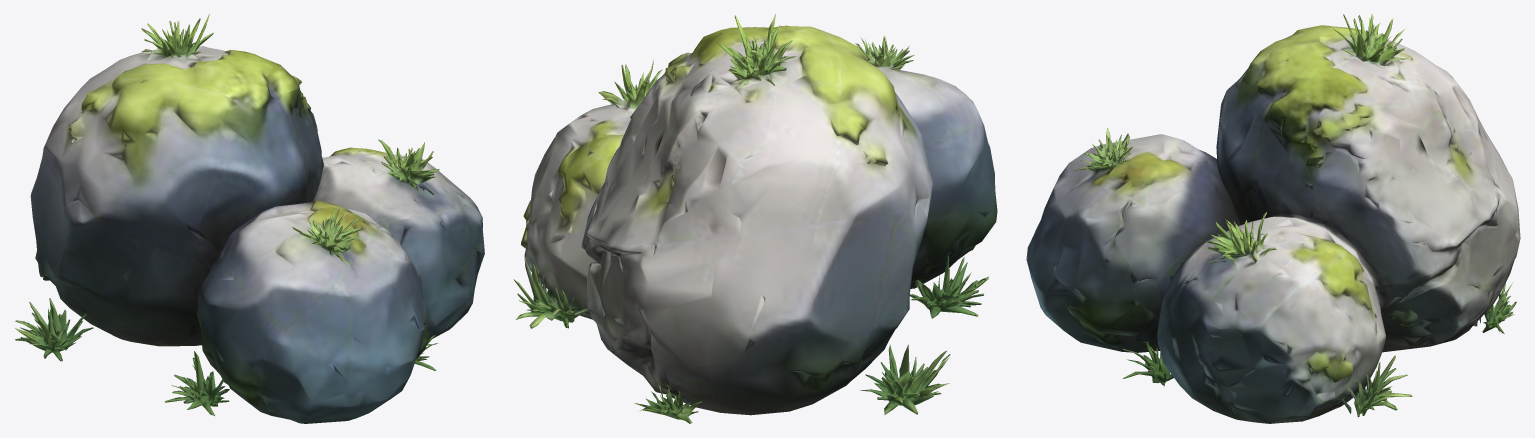
Rendered from rocks-mid.glb.
The picture shows the model from 3 angles, left to right: view 1: azimuth 30°, elevation 25°; view 2: azimuth 150°, elevation 25°; view 3: azimuth 270°, elevation 25°; orthographic projection. The views are drawn at different scales.
Parts seen in each view (by area): view 1: tripo_node_877fe8c3-746c-47d7-b5fc-5a669d12636c; view 2: tripo_node_877fe8c3-746c-47d7-b5fc-5a669d12636c; view 3: tripo_node_877fe8c3-746c-47d7-b5fc-5a669d12636c.
Boxes of the visible parts, x1,y1,x2,y2 form: tripo_node_877fe8c3-746c-47d7-b5fc-5a669d12636c: (15,14,484,423); tripo_node_877fe8c3-746c-47d7-b5fc-5a669d12636c: (513,14,997,423); tripo_node_877fe8c3-746c-47d7-b5fc-5a669d12636c: (1026,14,1520,423).
Bounding box in the file's own units: 0.9301 × 0.6777 × 0.9987.
1 material, 1 textured.
